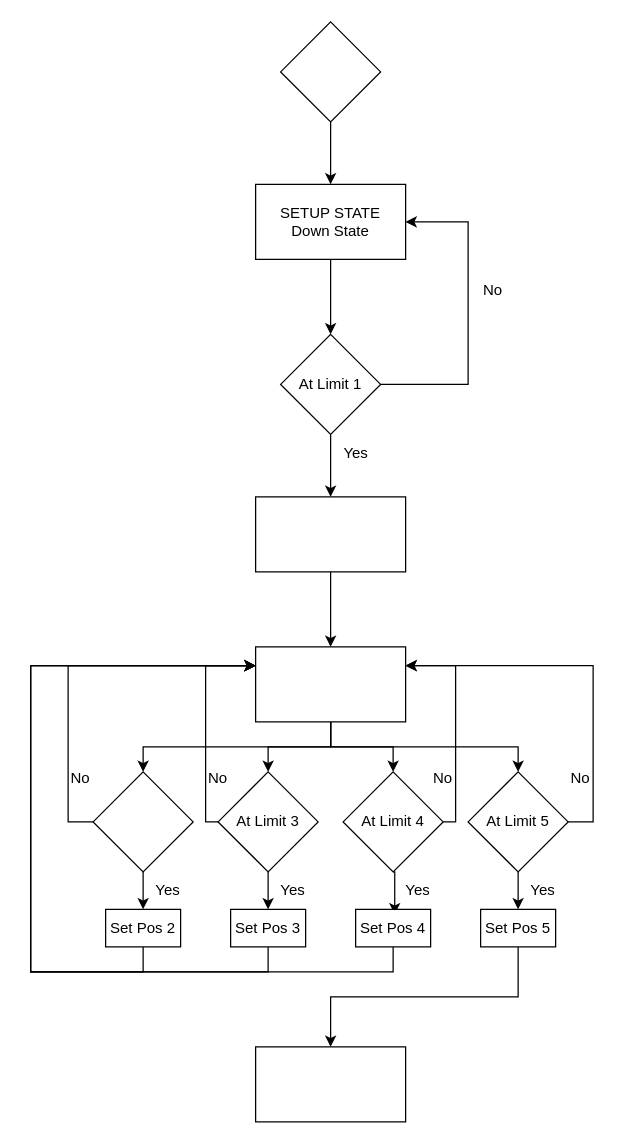
Image size: 640x1144. Some labels were removed from this diagram. The centre of each missing label's shape, as x and y in pixels:
"At Limit 2" goes at (x=142, y=821).
"Set Pos 1" goes at (x=330, y=534).
"START" goes at (x=330, y=71).
"Stopped State" goes at (x=330, y=1084).
"Up State" goes at (x=330, y=684).
